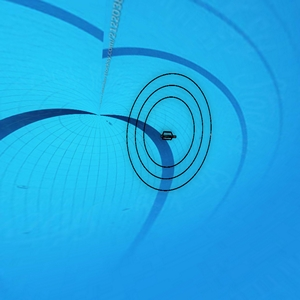circle: (119, 71, 217, 189)
submarine: (161, 129, 176, 139)
